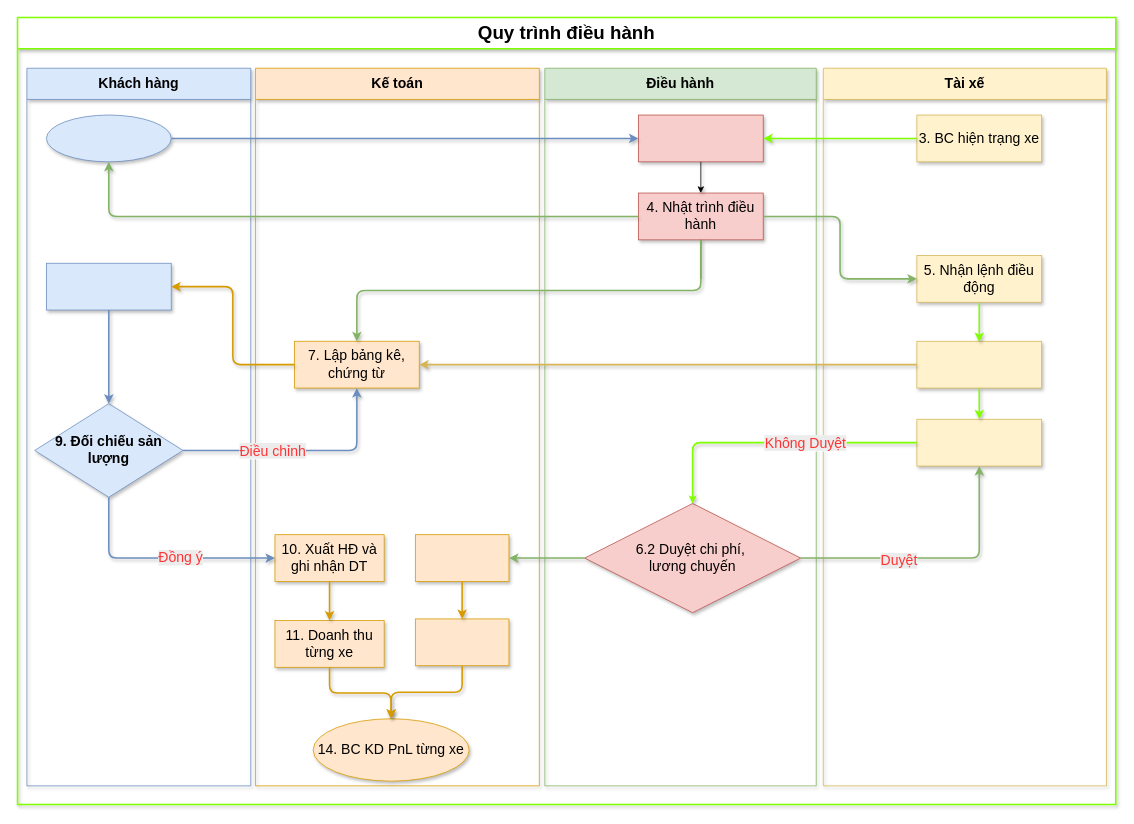
Image size: 1134x824. Some labels were removed from this diagram. Each missing label, with the centre of its shape:
1. KH đặt lệnh: pixel 109 139
12. Ghi nhận chi phí, lương: pixel 462 559
13. Chi phí cố định: pixel 462 643
2. Tiếp nhận thông tin: pixel 701 139
6. Giao hàng, nộp chứng từ: pixel 979 365
6.1. Báo chi phí chuyển, lương: pixel 979 443
8. Nhận bảng kê SL và CT: pixel 109 287
